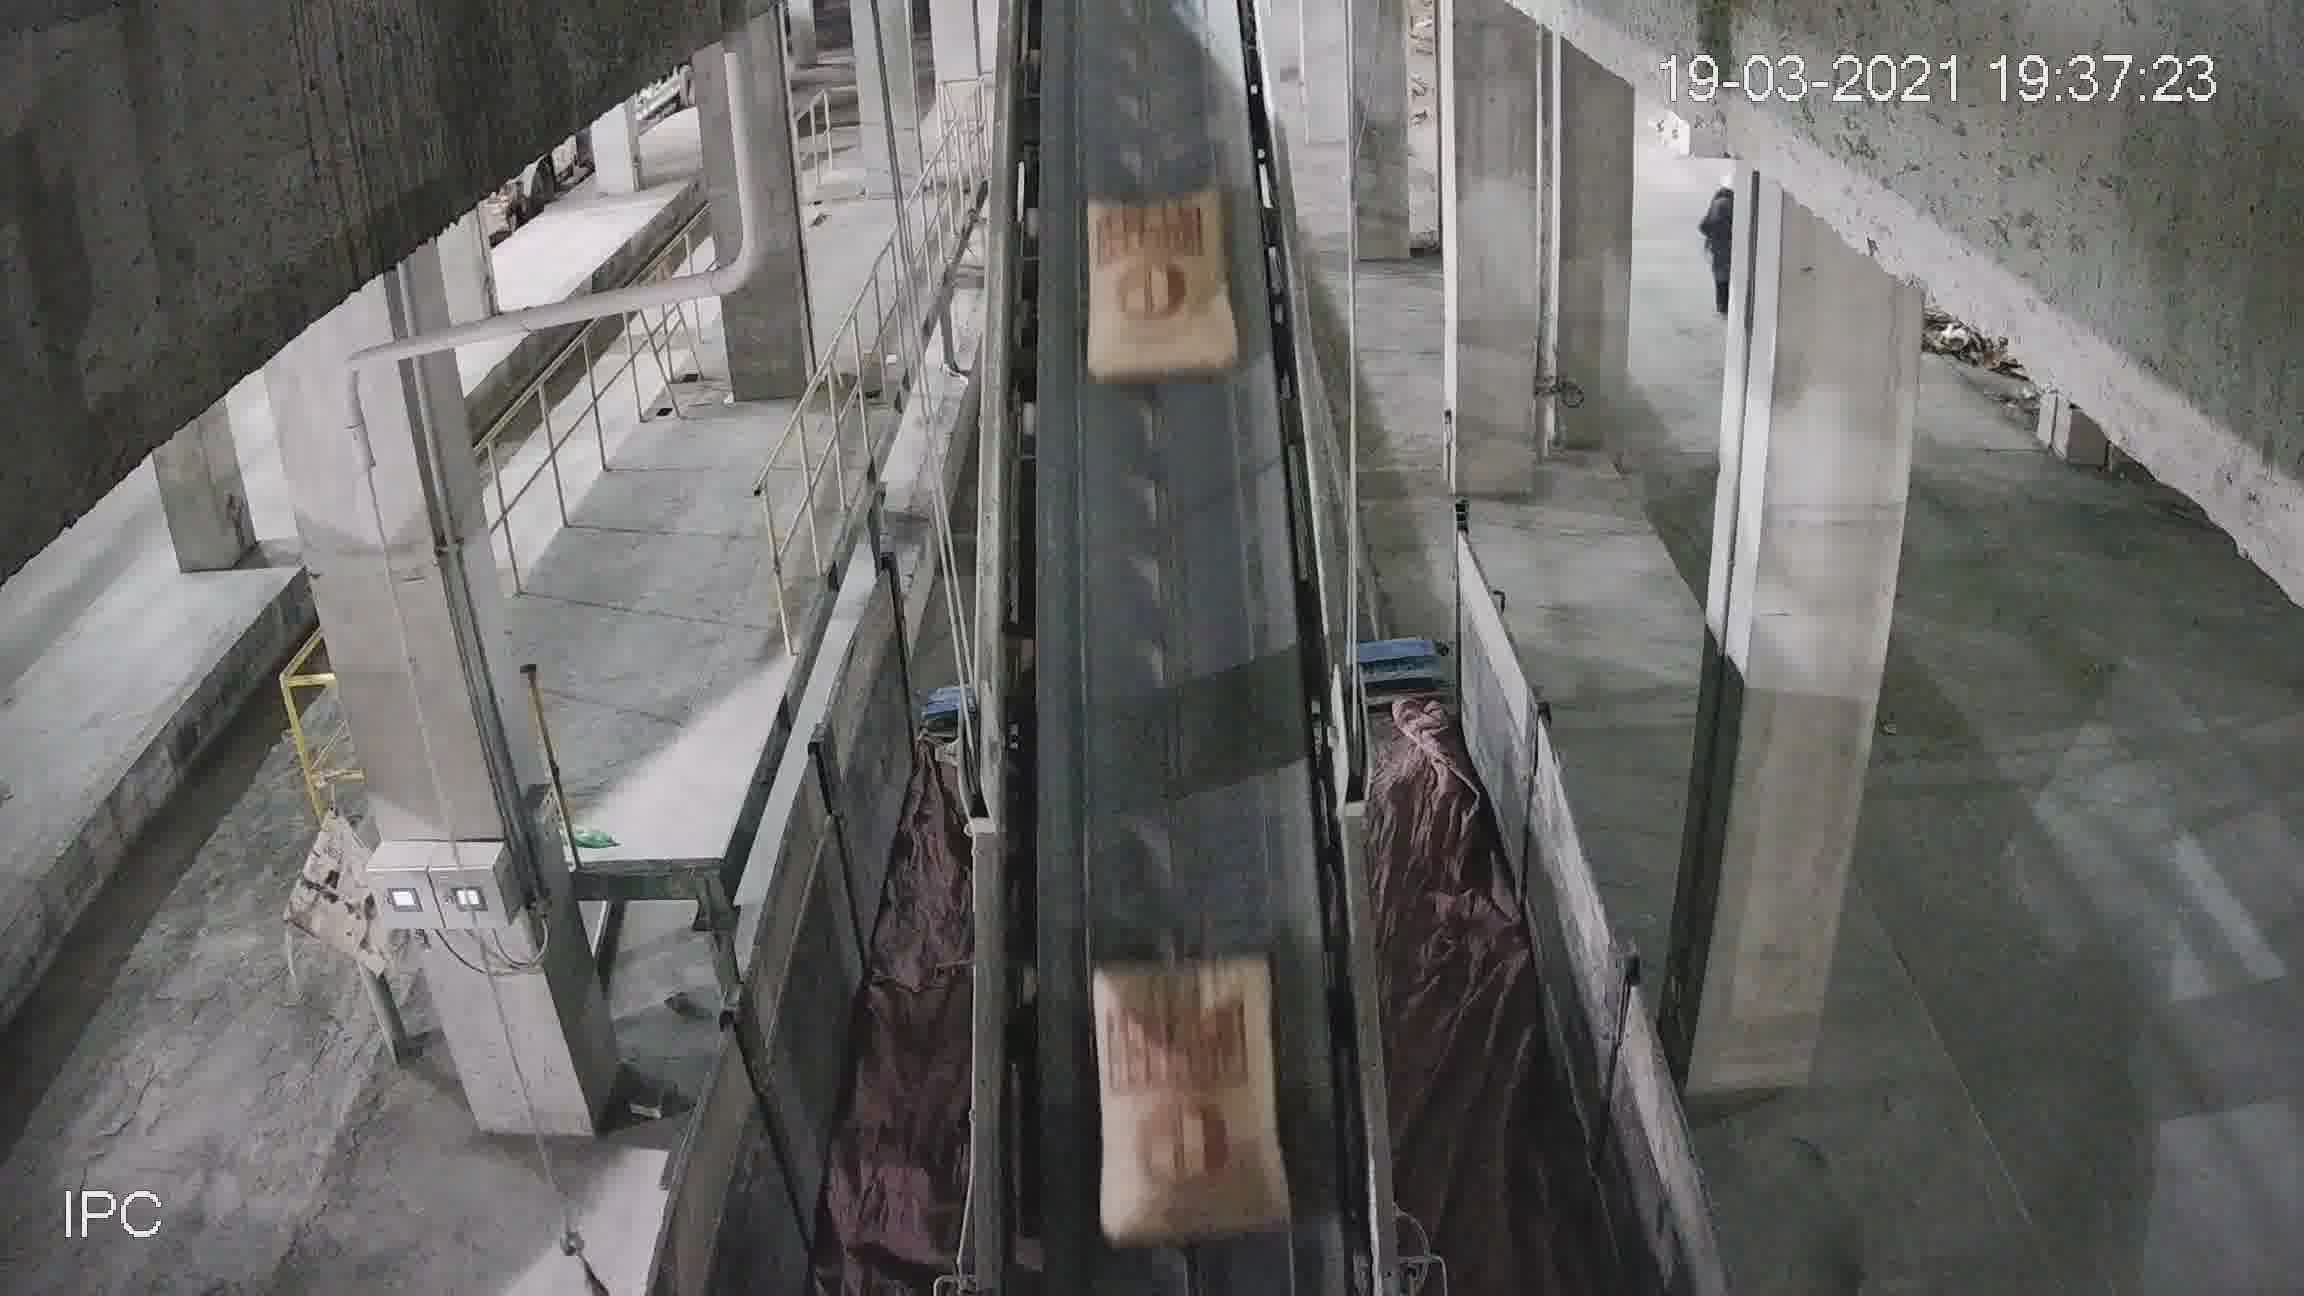bag: (1101, 937, 1279, 1188), (1084, 195, 1233, 381)
belt: (981, 25, 1351, 1169)
